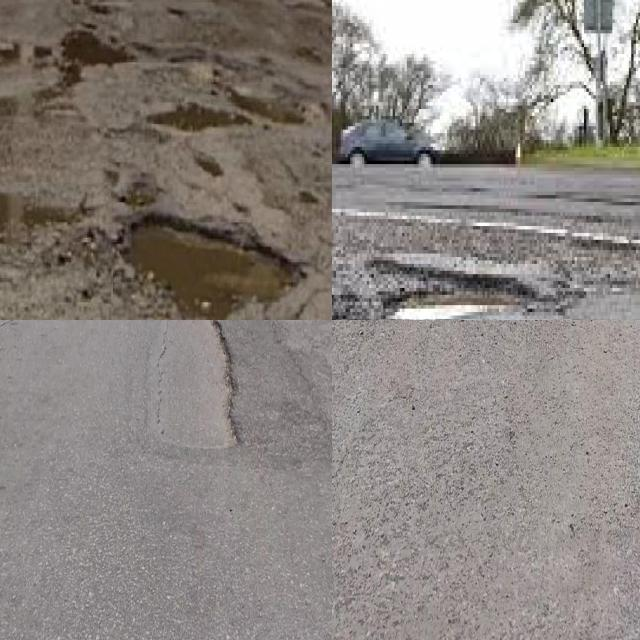Pothole: (122, 213, 308, 320), (155, 320, 241, 452), (388, 291, 523, 320), (146, 102, 251, 130), (61, 30, 134, 65), (230, 89, 304, 123), (21, 202, 88, 227), (125, 172, 159, 206), (194, 152, 224, 176), (0, 44, 20, 59), (299, 190, 319, 203), (34, 46, 52, 58), (90, 5, 111, 14), (59, 252, 71, 263), (81, 288, 91, 298)
